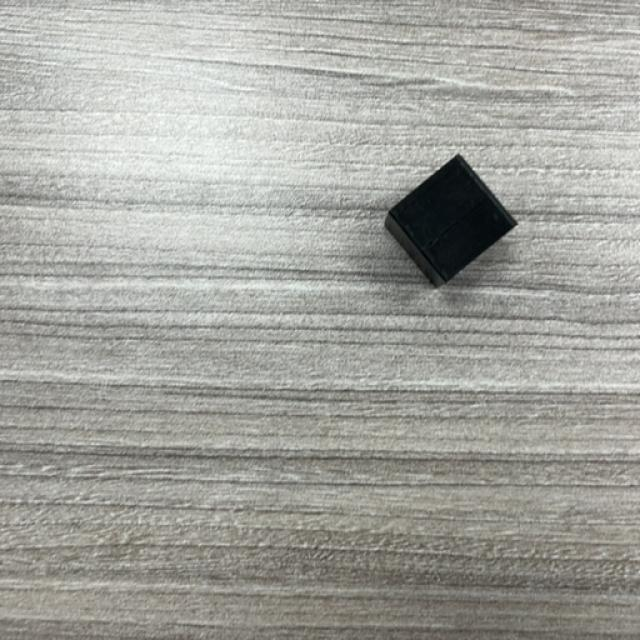Negro: (384, 156, 518, 289)
